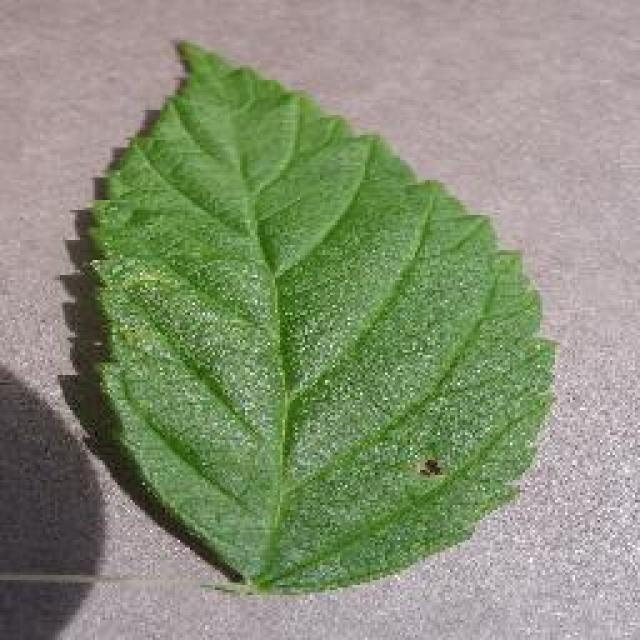Ras_healthy: (87, 100, 538, 546)
